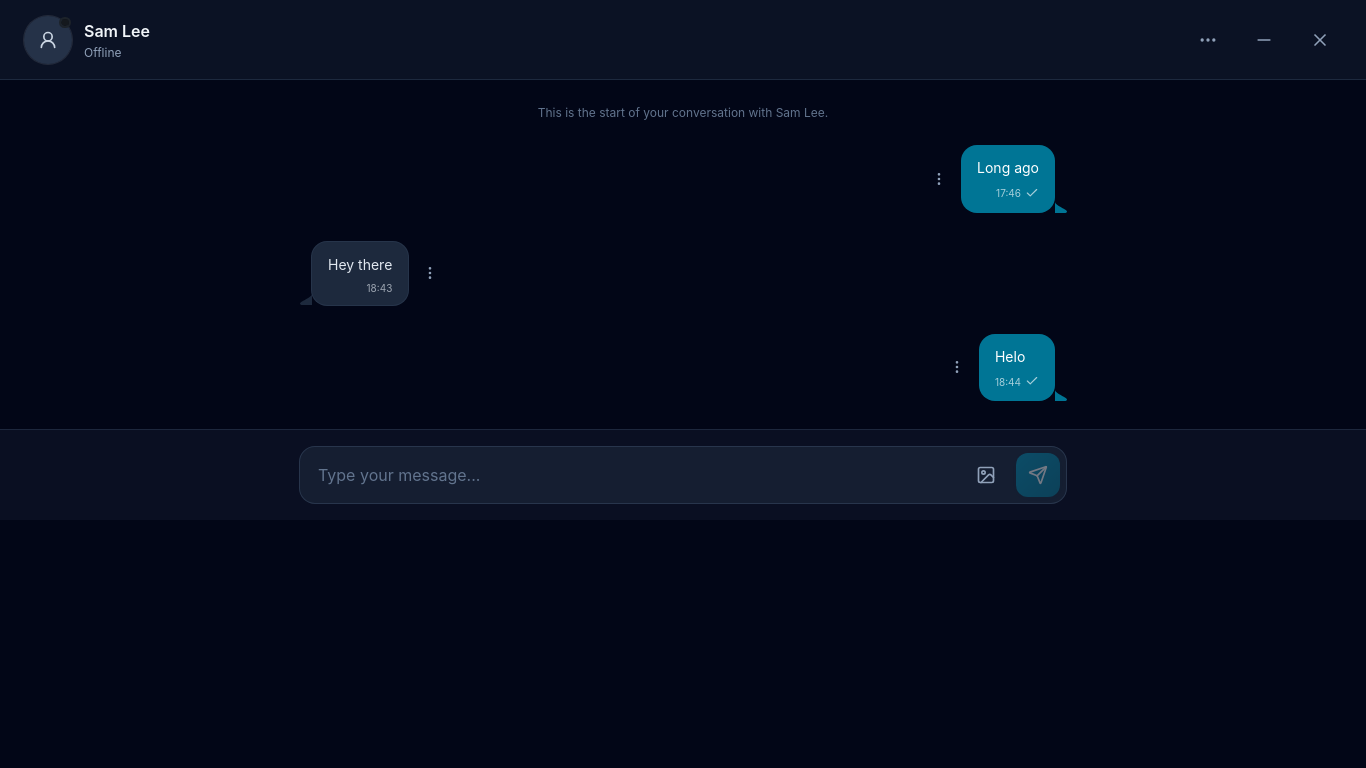
message actions › Escape leaves the editor without saving or closing the conversation
Step 1. Click the button named "Message actions" next to "Helo" → (957, 367), box left=939, top=349, right=975, bottom=385
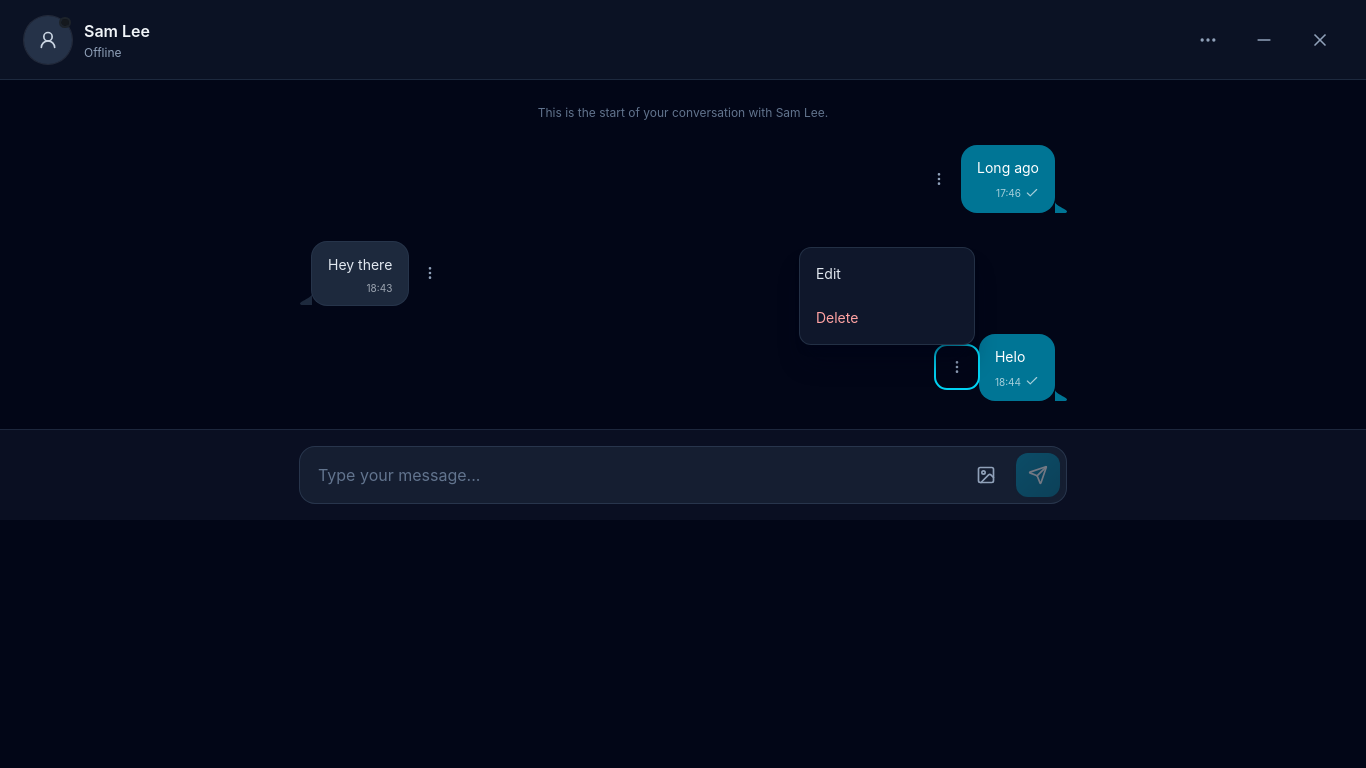
Step 2. Click the button "Edit" → (887, 274), box left=804, top=252, right=970, bottom=296
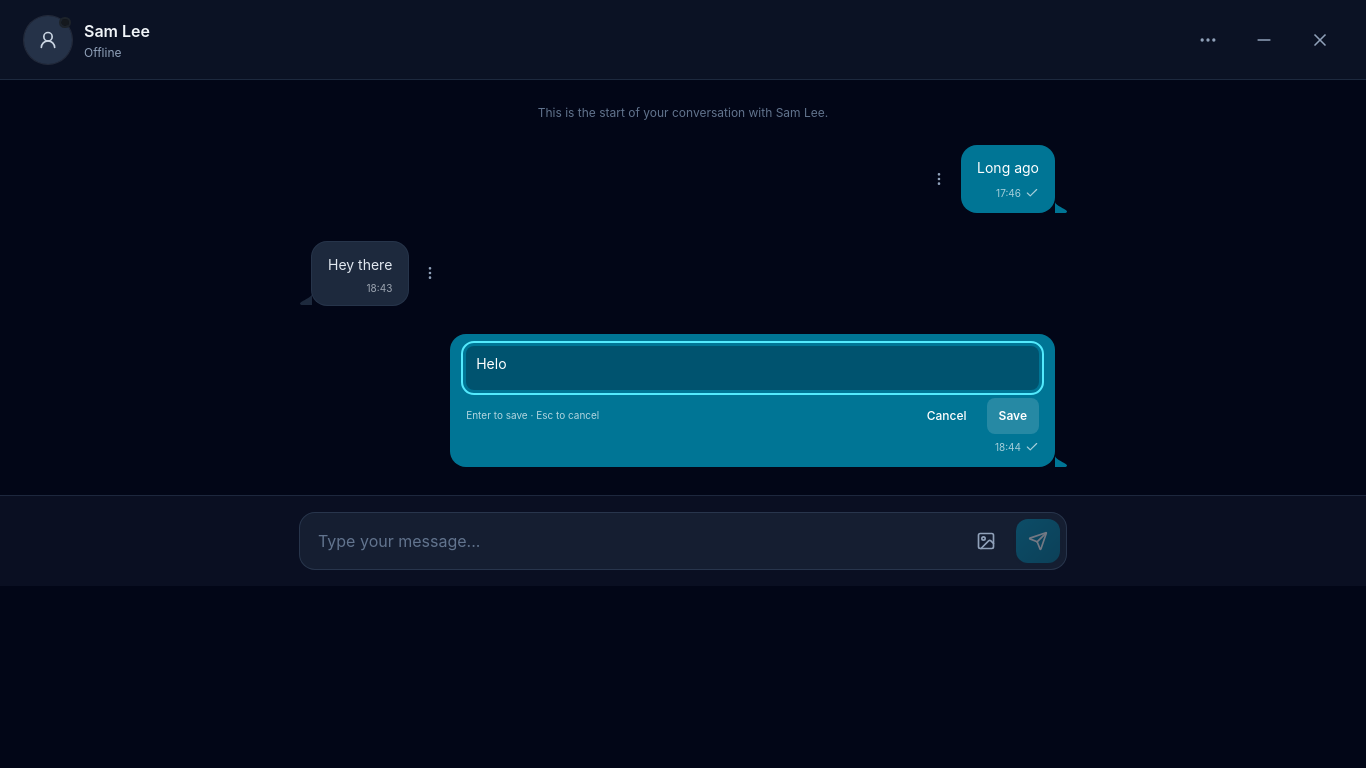
Step 3. Type " changed" into the text box named "Edit message" → (753, 368), box left=466, top=346, right=1039, bottom=390
Then press Escape
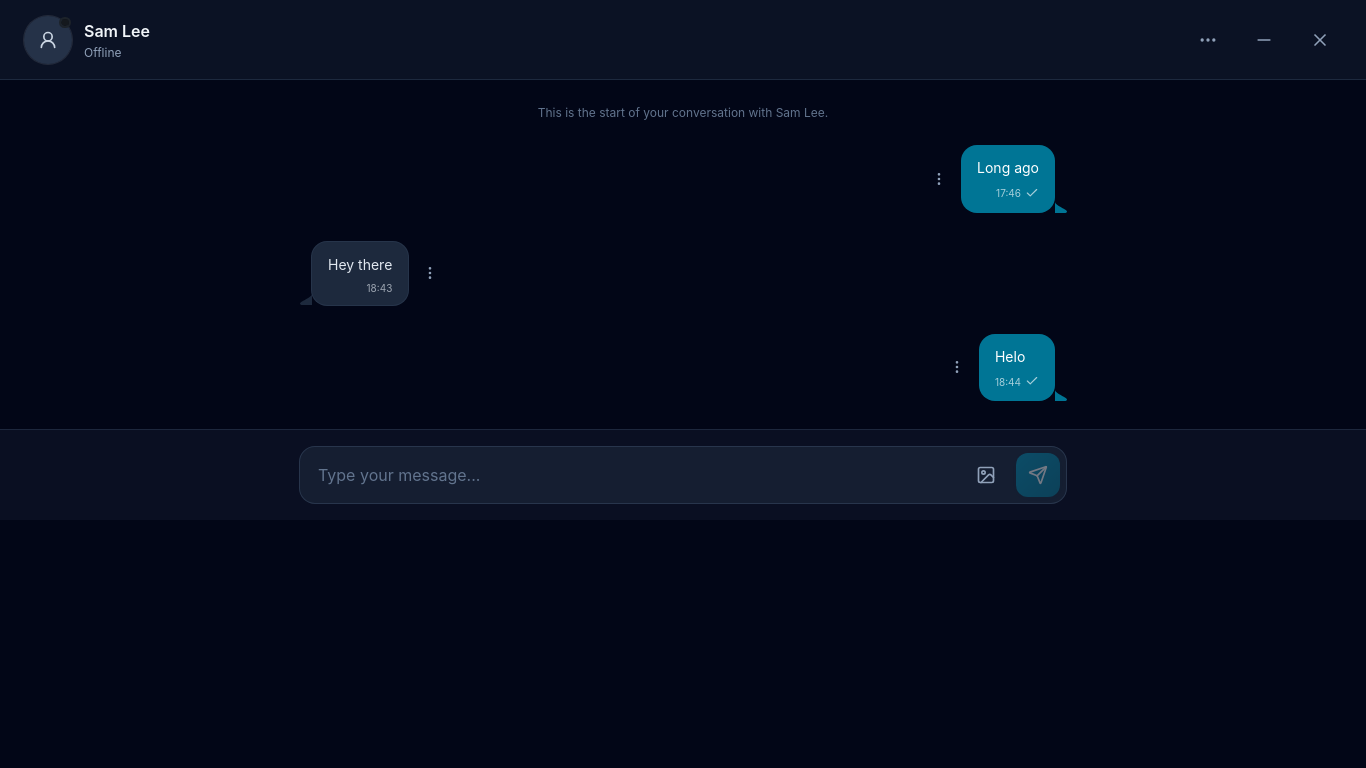
Result: the text "Helo" is shown at left=995, top=348, right=1025, bottom=364
